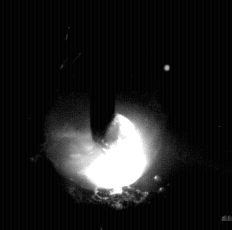arame: (91, 0, 116, 147)
poca: (46, 0, 177, 230)
